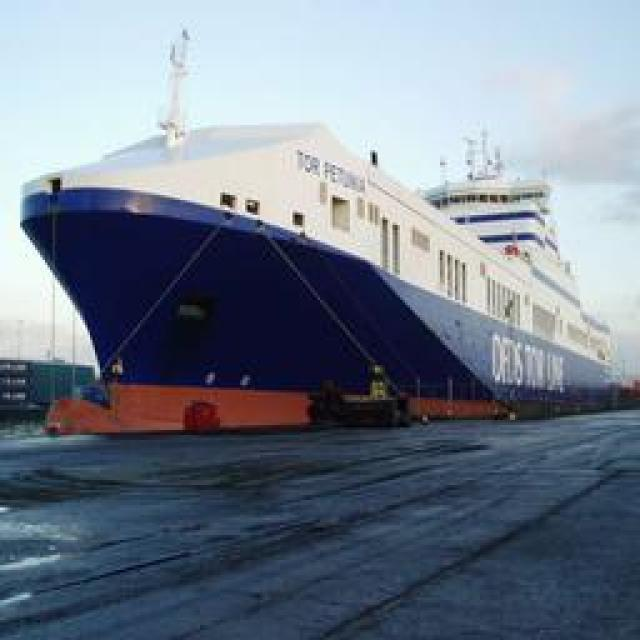ship2: (20, 29, 639, 436)
